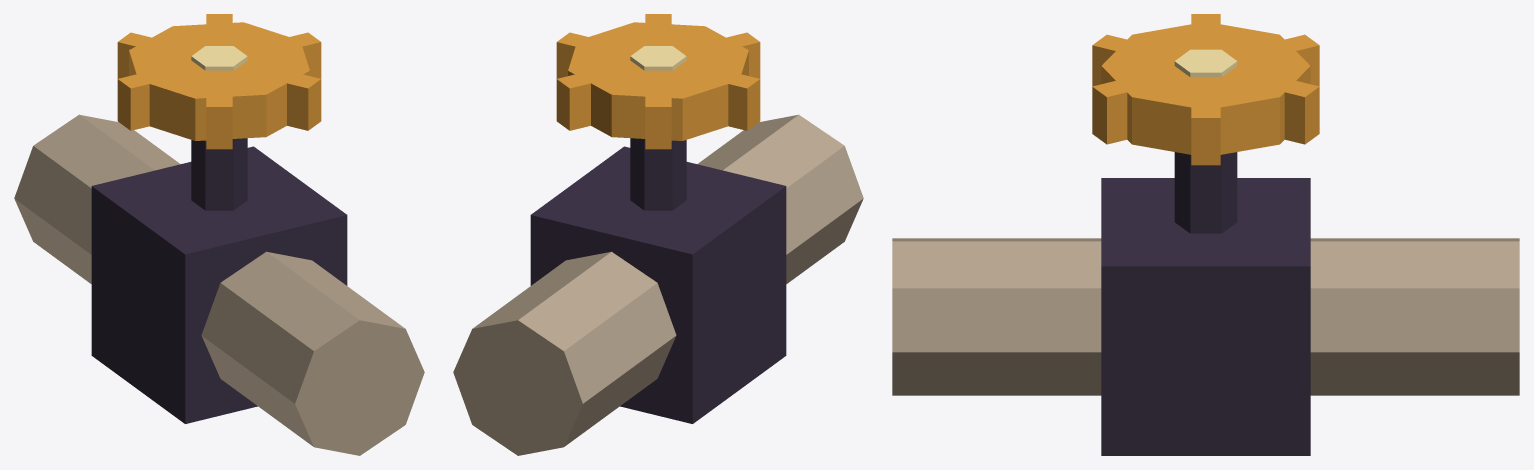
The model's file is valve.glb.
3 views of the same model, side by side, from view 1: azimuth 30°, elevation 25°; view 2: azimuth 150°, elevation 25°; view 3: azimuth 270°, elevation 25° (orthographic). The views are drawn at different scales.
Visible parts, largest first — view 1: factory-valve; view 2: factory-valve; view 3: factory-valve.
Part boxes in pixels (left/top/right/bottom): factory-valve: left=14, top=14, right=424, bottom=455; factory-valve: left=453, top=14, right=863, bottom=455; factory-valve: left=892, top=14, right=1519, bottom=455.
Size of the model in its own units: 0.235 by 0.37 by 0.6.
